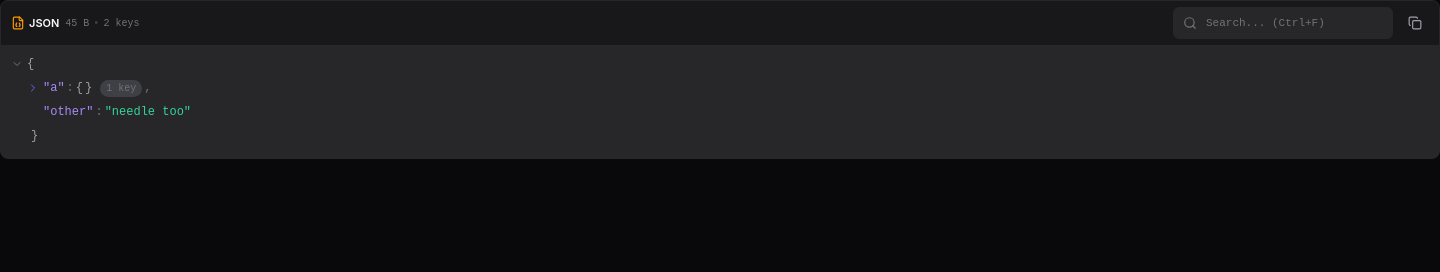
it: JsonTreeViewer › searches keys and values, expanding collapsed ancestors
In the field with placeholder "Search... (Ctrl+F)": [1283, 23] box [1173,7,1393,39], type "NEEDLE"
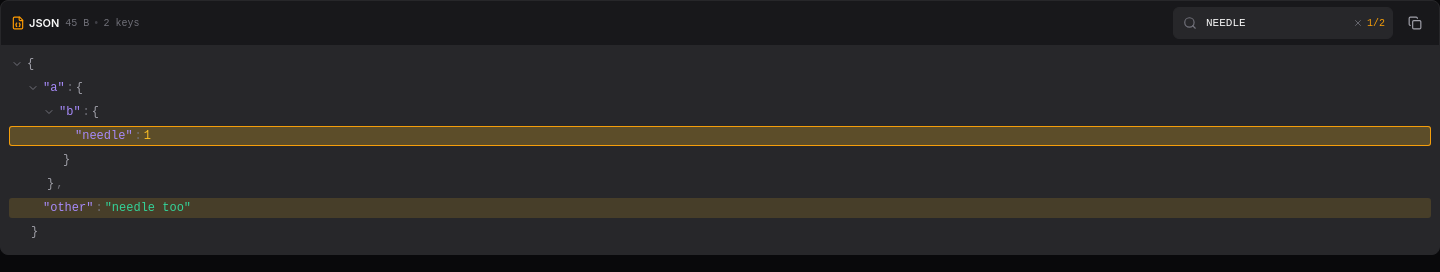
expect the number of elements with class "jt-row--matched" is 2: met, box [9,126,1431,146]; [9,198,1431,218]
expect the text "1/2" is shown: met, box [1367,18,1385,28]
Press Enter in the field with placeholder "Search... (Ctrl+F)", box [1173,7,1393,39]
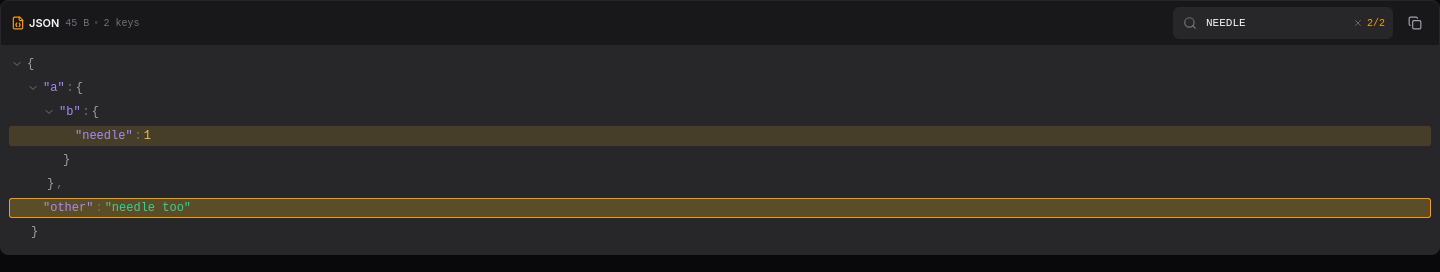
expect the text "2/2" is shown: met, box [1367,18,1385,28]
